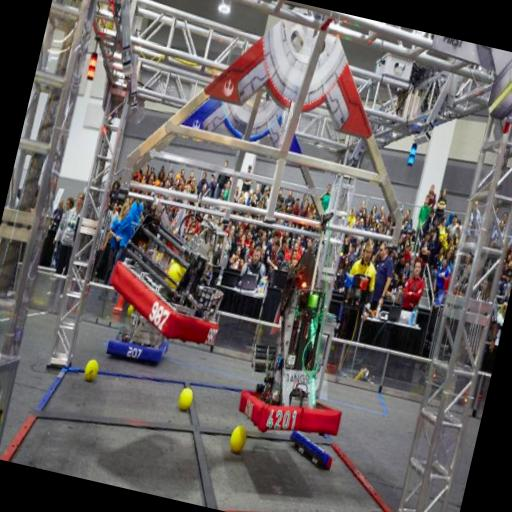robot: (224, 176, 402, 462), (86, 184, 258, 360), (94, 296, 184, 376)
